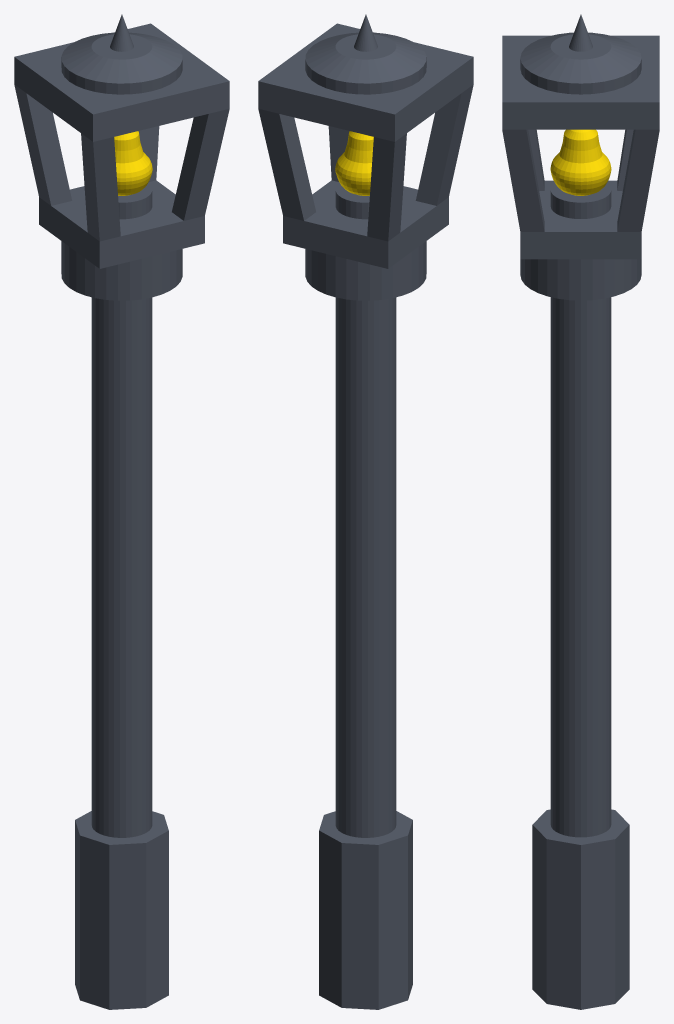
File: CerosinLamp(materialed).fbx
The picture shows the model from 3 angles, left to right: view 1: azimuth 30°, elevation 25°; view 2: azimuth 150°, elevation 25°; view 3: azimuth 270°, elevation 25°; orthographic projection.
Visible parts, largest first — view 1: Sphere; view 2: Sphere; view 3: Sphere.
Boxes of the visible parts, left/top/right/bottom form: Sphere: left=14, top=14, right=229, bottom=1009; Sphere: left=258, top=14, right=473, bottom=1009; Sphere: left=502, top=14, right=659, bottom=1009.
Bounding box in the file's own units: 260 × 1775 × 260.
